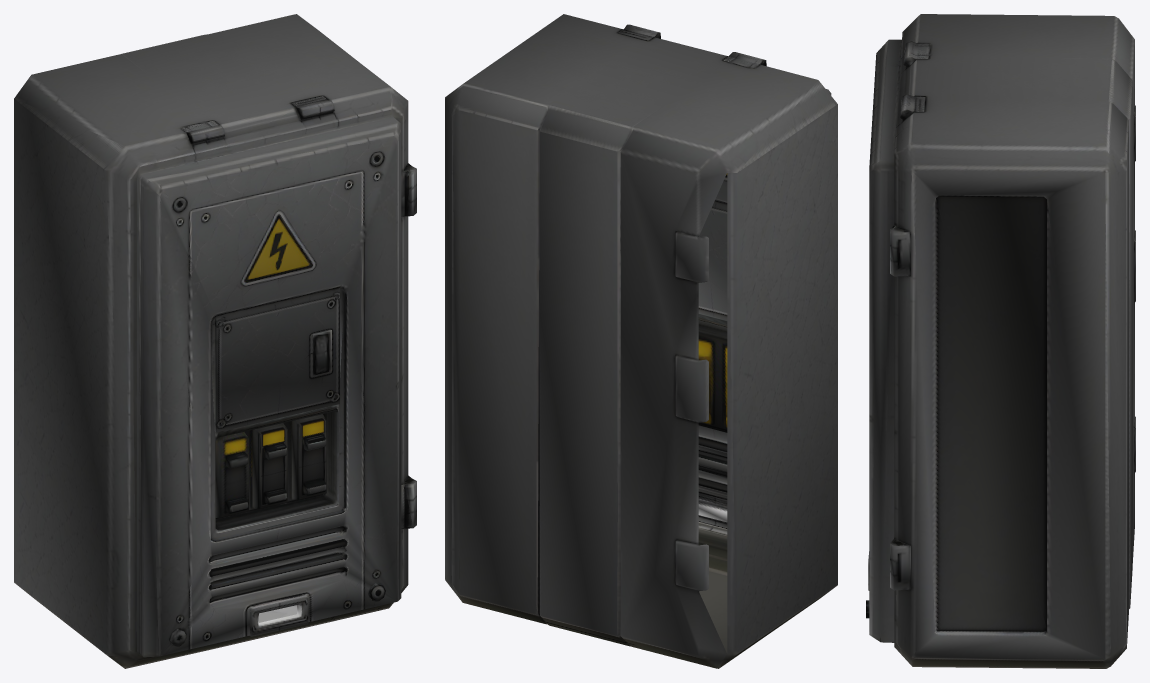
Rendered from PowerBox.fbx.
The picture shows the model from 3 angles, left to right: view 1: azimuth 30°, elevation 25°; view 2: azimuth 150°, elevation 25°; view 3: azimuth 270°, elevation 25°; orthographic projection.
Visible parts, largest first — view 1: tripo_node_46f72588; view 2: tripo_node_46f72588; view 3: tripo_node_46f72588.
Part boxes in pixels (x1=…): tripo_node_46f72588: x1=14, y1=14, x2=416, y2=668; tripo_node_46f72588: x1=445, y1=14, x2=837, y2=668; tripo_node_46f72588: x1=866, y1=14, x2=1135, y2=668.
Bounding box in the file's own units: 0.6035 × 0.998 × 0.4629.
